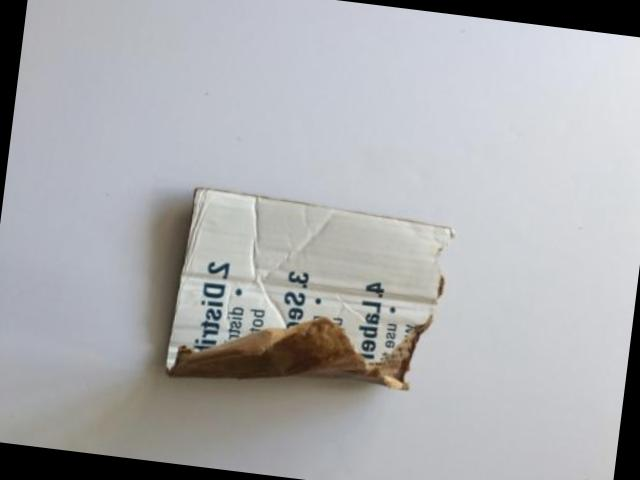cardboard paper: (169, 187, 453, 387)
